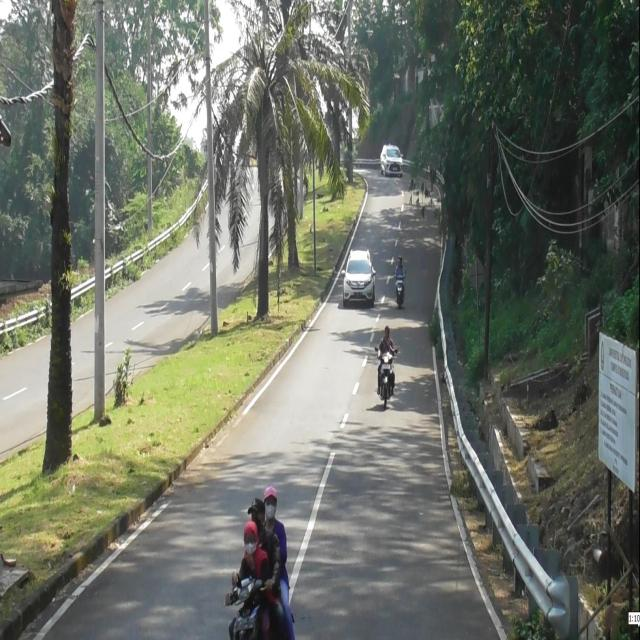motorcycle: (222, 577, 280, 640), (376, 347, 396, 406), (394, 273, 406, 310)
person: (260, 487, 296, 636), (232, 497, 280, 590), (234, 525, 266, 586), (378, 327, 396, 359), (395, 256, 406, 278)
rider_region: (223, 490, 294, 640), (376, 324, 400, 411), (394, 252, 407, 312)
